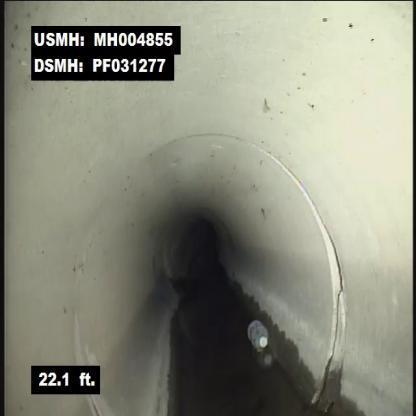Joint offset: (317, 227, 354, 361)
